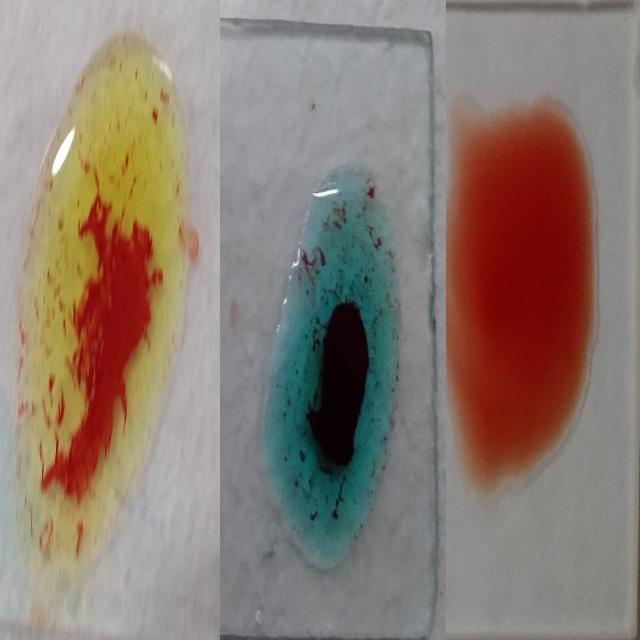A: (273, 166, 400, 574)
B: (13, 37, 183, 568)
